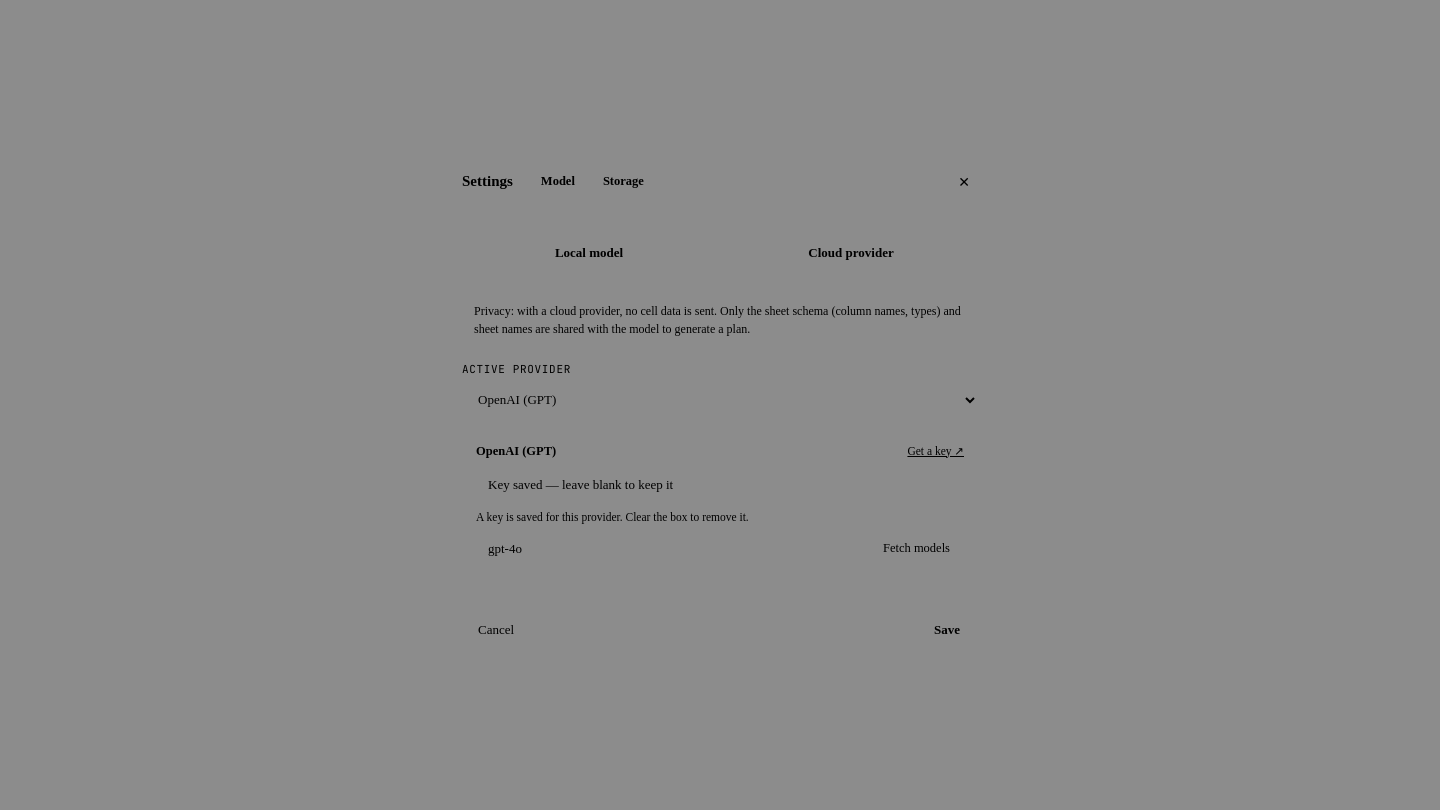
SettingsPanel keys › shows what the server said when the provider cannot be asked
What coordinates should you click on to do the following:
click the button "Fetch models"
I would click on:
 (916, 548)
Its box is [869,530,964,566].
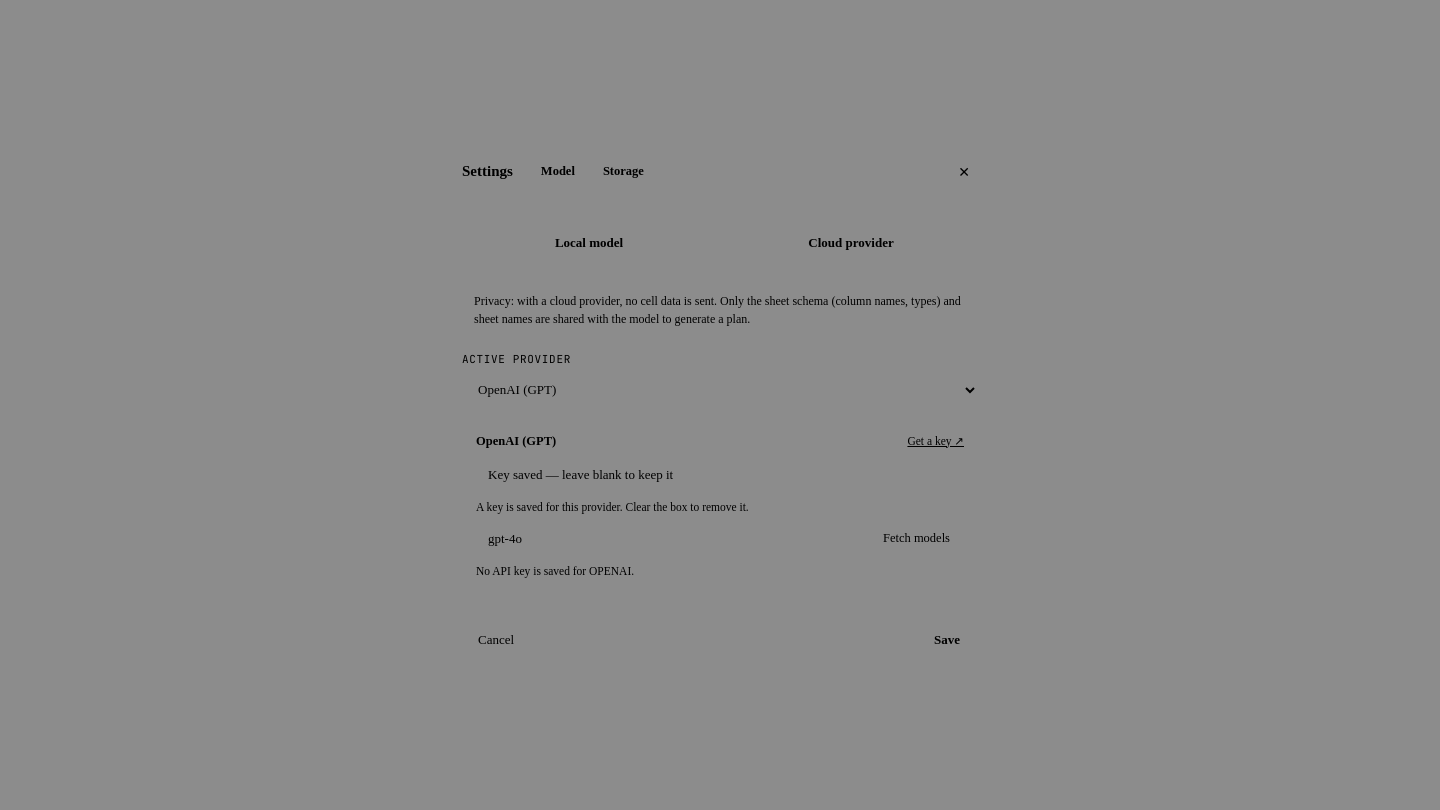
Expected: the text "No API key is saved for OPENAI." is shown, [476,564,634,576]
